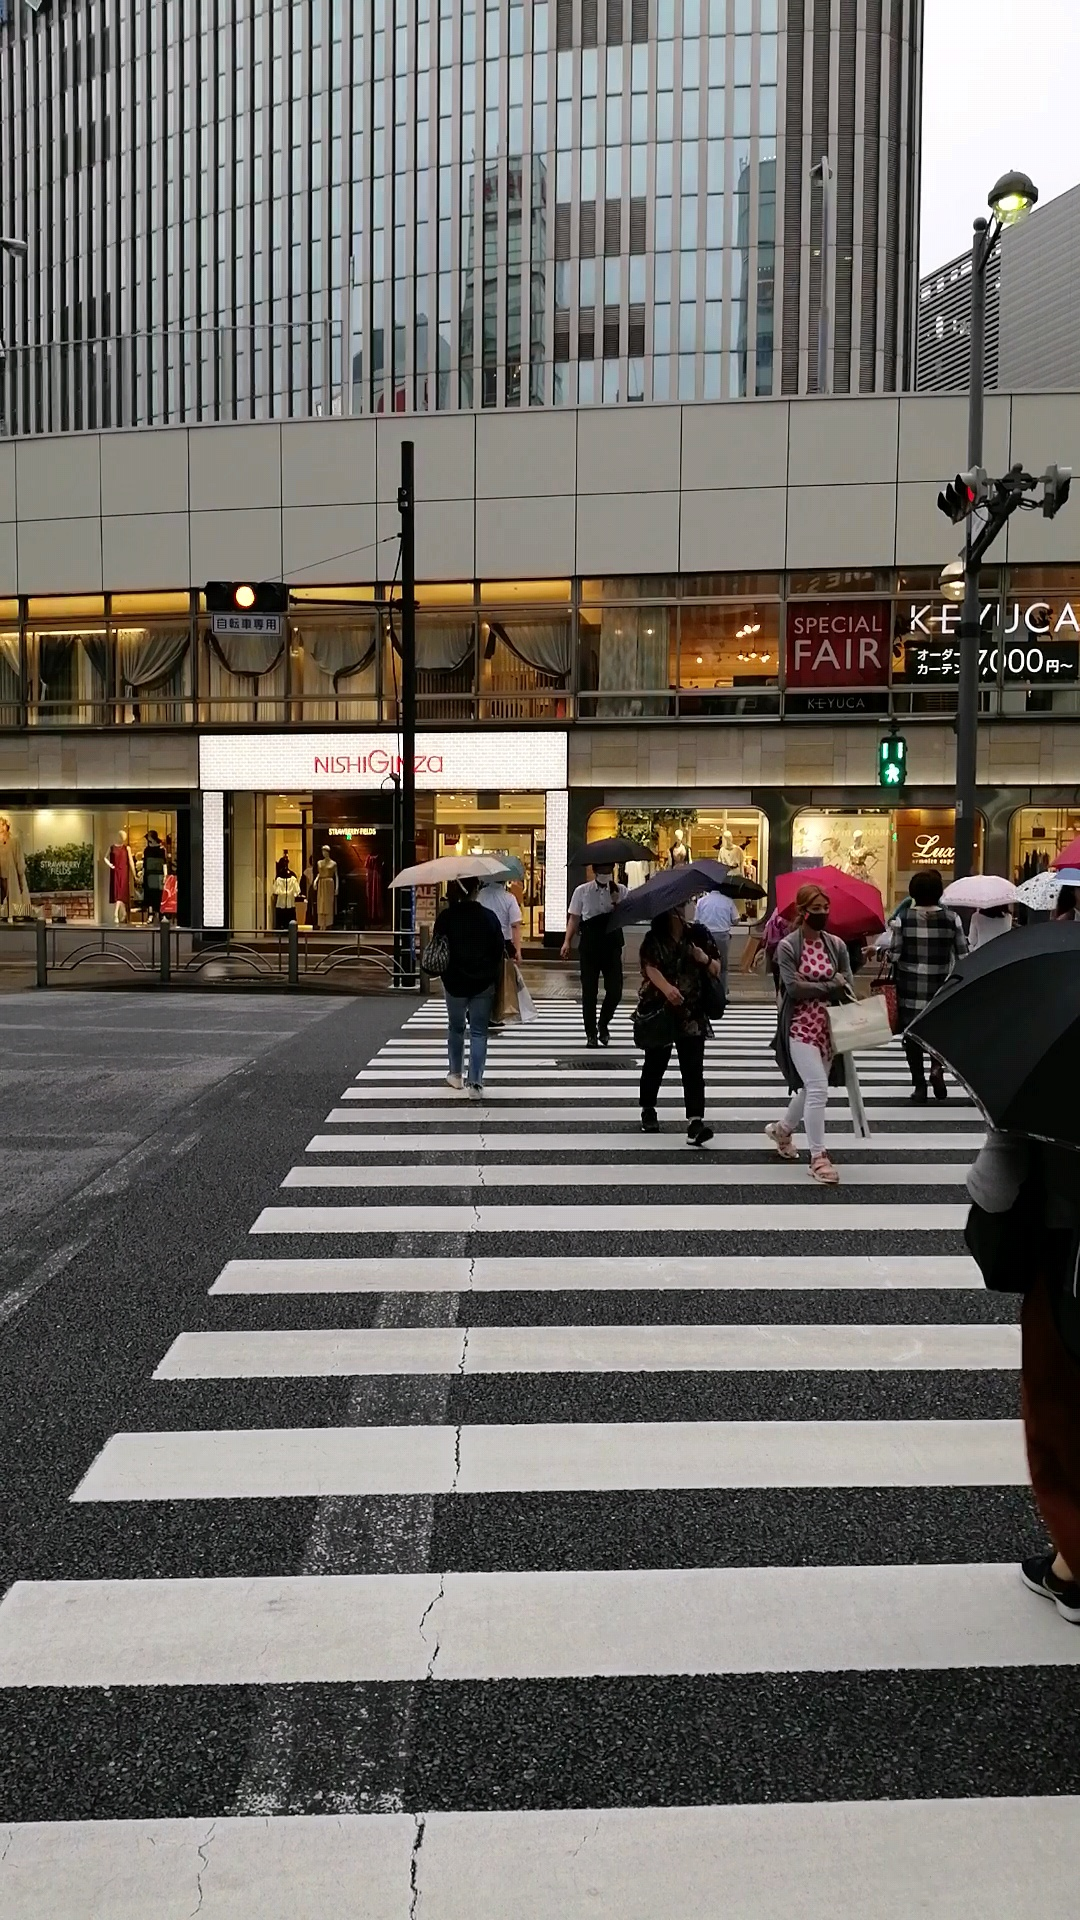green: (876, 732, 906, 791)
